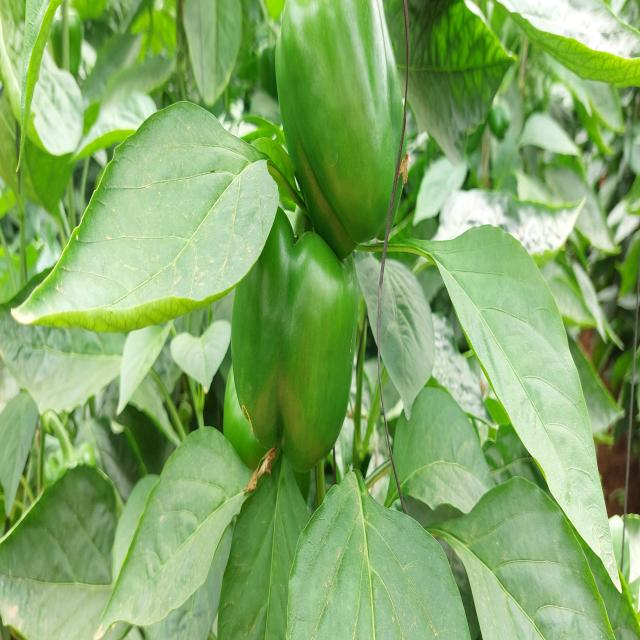Green--Not-ready-to-harvest: (277, 0, 408, 247), (235, 210, 358, 472)
